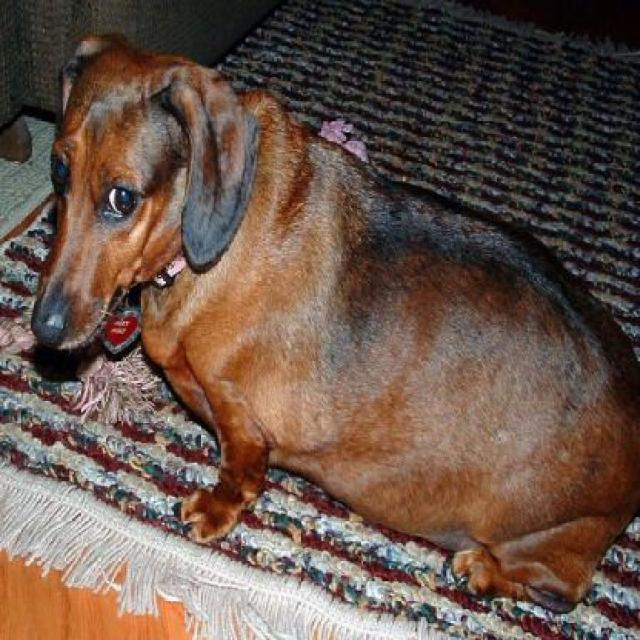Dog: (27, 23, 638, 620)
